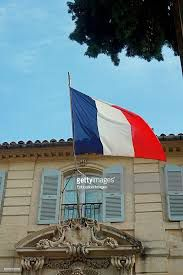French Flag: (69, 87, 167, 161)
